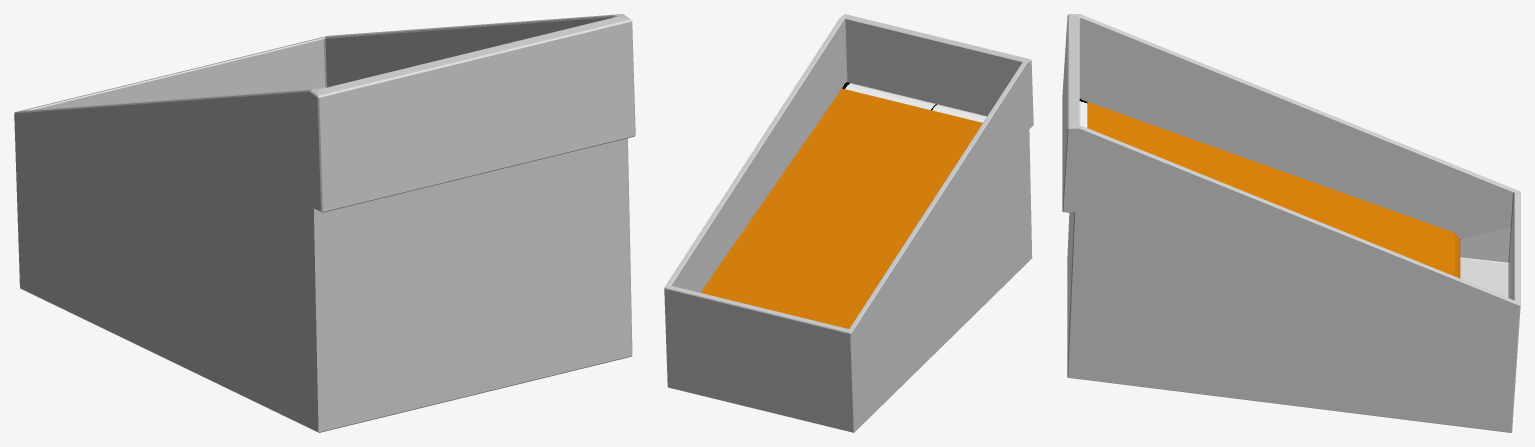
The model's file is ArcadeMachine-VR.fbx.
The picture shows the model from 3 angles, left to right: view 1: azimuth 30°, elevation 25°; view 2: azimuth 150°, elevation 25°; view 3: azimuth 270°, elevation 25°; orthographic projection. The views are drawn at different scales.
Visible parts, largest first — view 1: Arcade-VR; view 2: Arcade-VR, ActionArea-VR; view 3: Arcade-VR, ActionArea-VR.
Part boxes in pixels (x1=…): Arcade-VR: x1=14, y1=14, x2=635, y2=432; Arcade-VR: x1=664, y1=14, x2=1033, y2=432; ActionArea-VR: x1=700, y1=88, x2=982, y2=328; Arcade-VR: x1=1062, y1=14, x2=1520, y2=432; ActionArea-VR: x1=1087, y1=102, x2=1453, y2=275.
Size of the model in its own units: 80 by 99.84 by 136.
